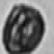correct: (1, 2, 46, 53)
